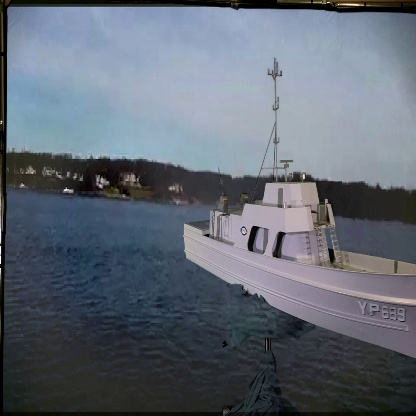YP689: (181, 63, 416, 359)
